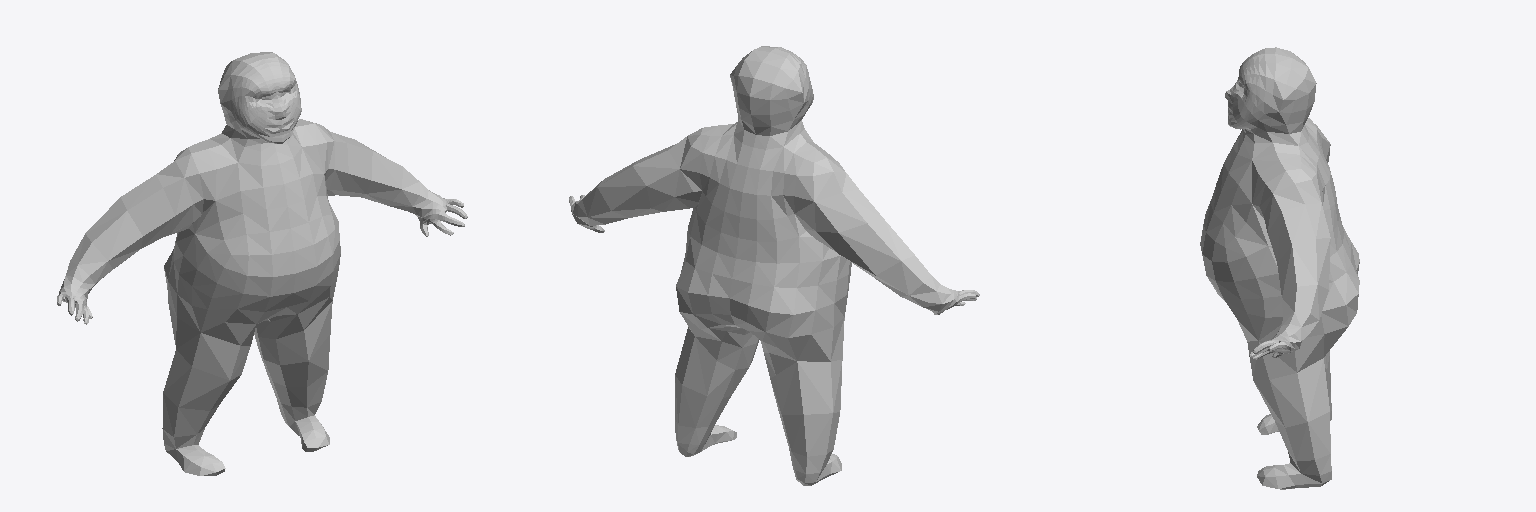
Rendered from Bert_Body_Model.OBJ.
The picture shows the model from 3 angles: view 1: azimuth 30°, elevation 25°; view 2: azimuth 150°, elevation 25°; view 3: azimuth 270°, elevation 25°; orthographic projection.
Parts seen in each view (by area): view 1: Group1; view 2: Group1; view 3: Group1.
Part boxes in pixels (x1,y1,x2,y2): Group1: (57,52,467,475); Group1: (569,46,979,485); Group1: (1200,47,1359,489).
Size of the model in its own units: 2.1 by 2 by 0.7155.